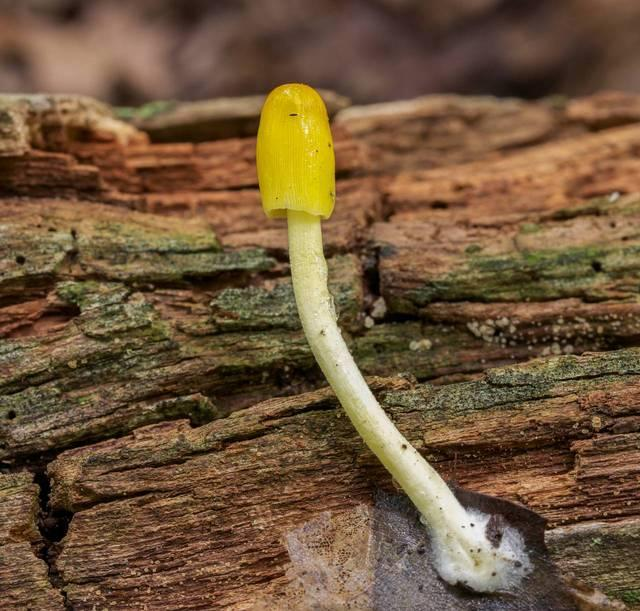Edible Mushroom: (254, 81, 535, 595)
